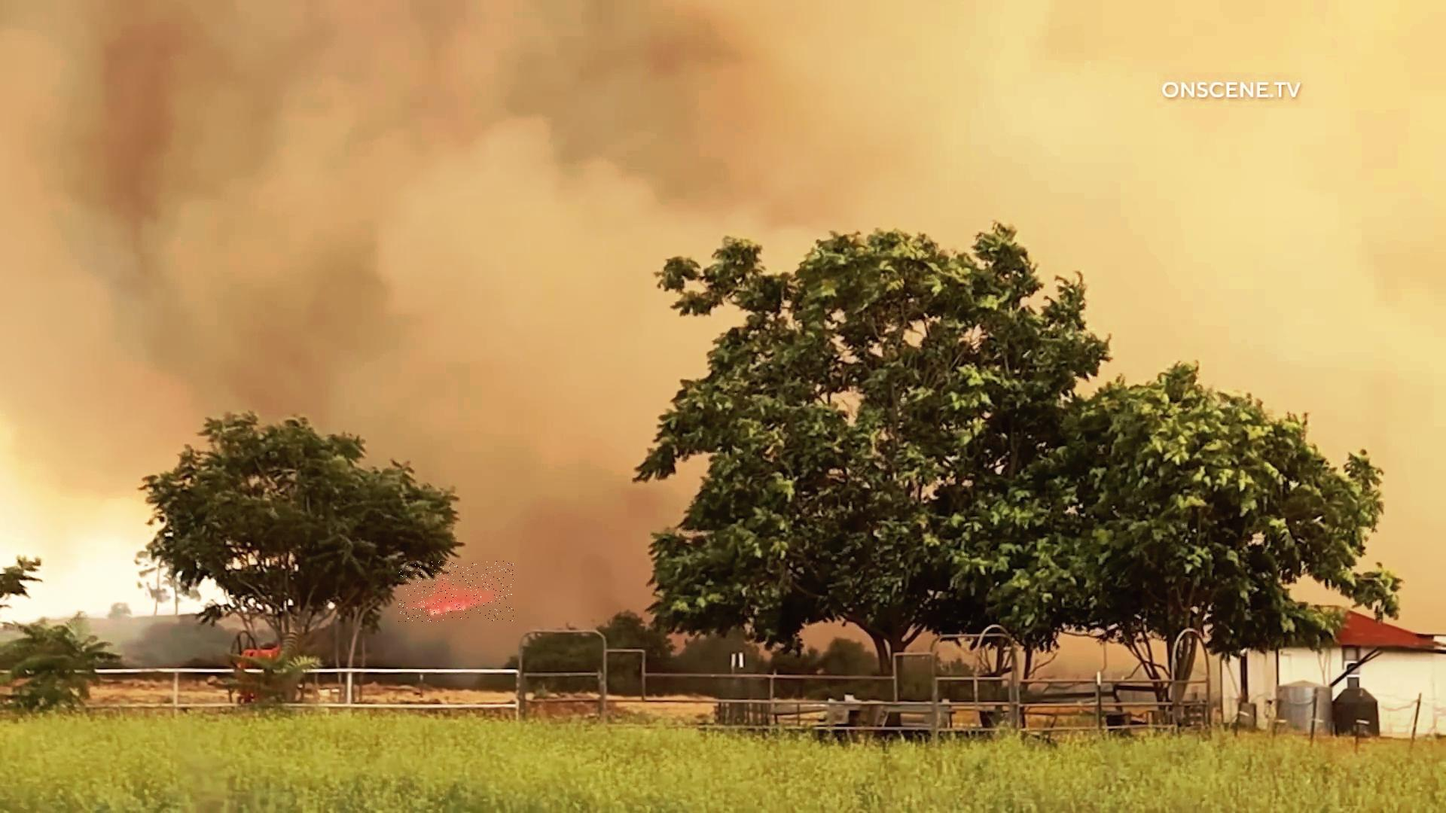fire: (399, 561, 514, 622)
